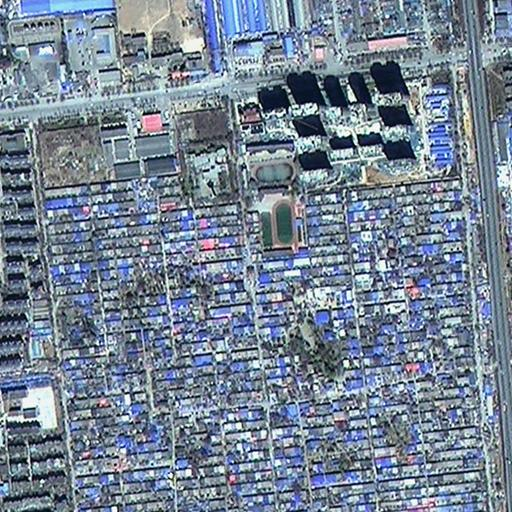school: (261, 196, 299, 259), (243, 155, 296, 193)
